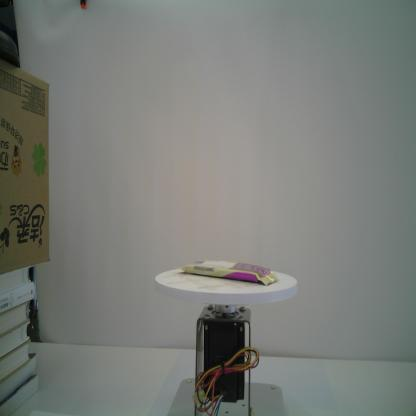Chocolate: (176, 257, 281, 287)
